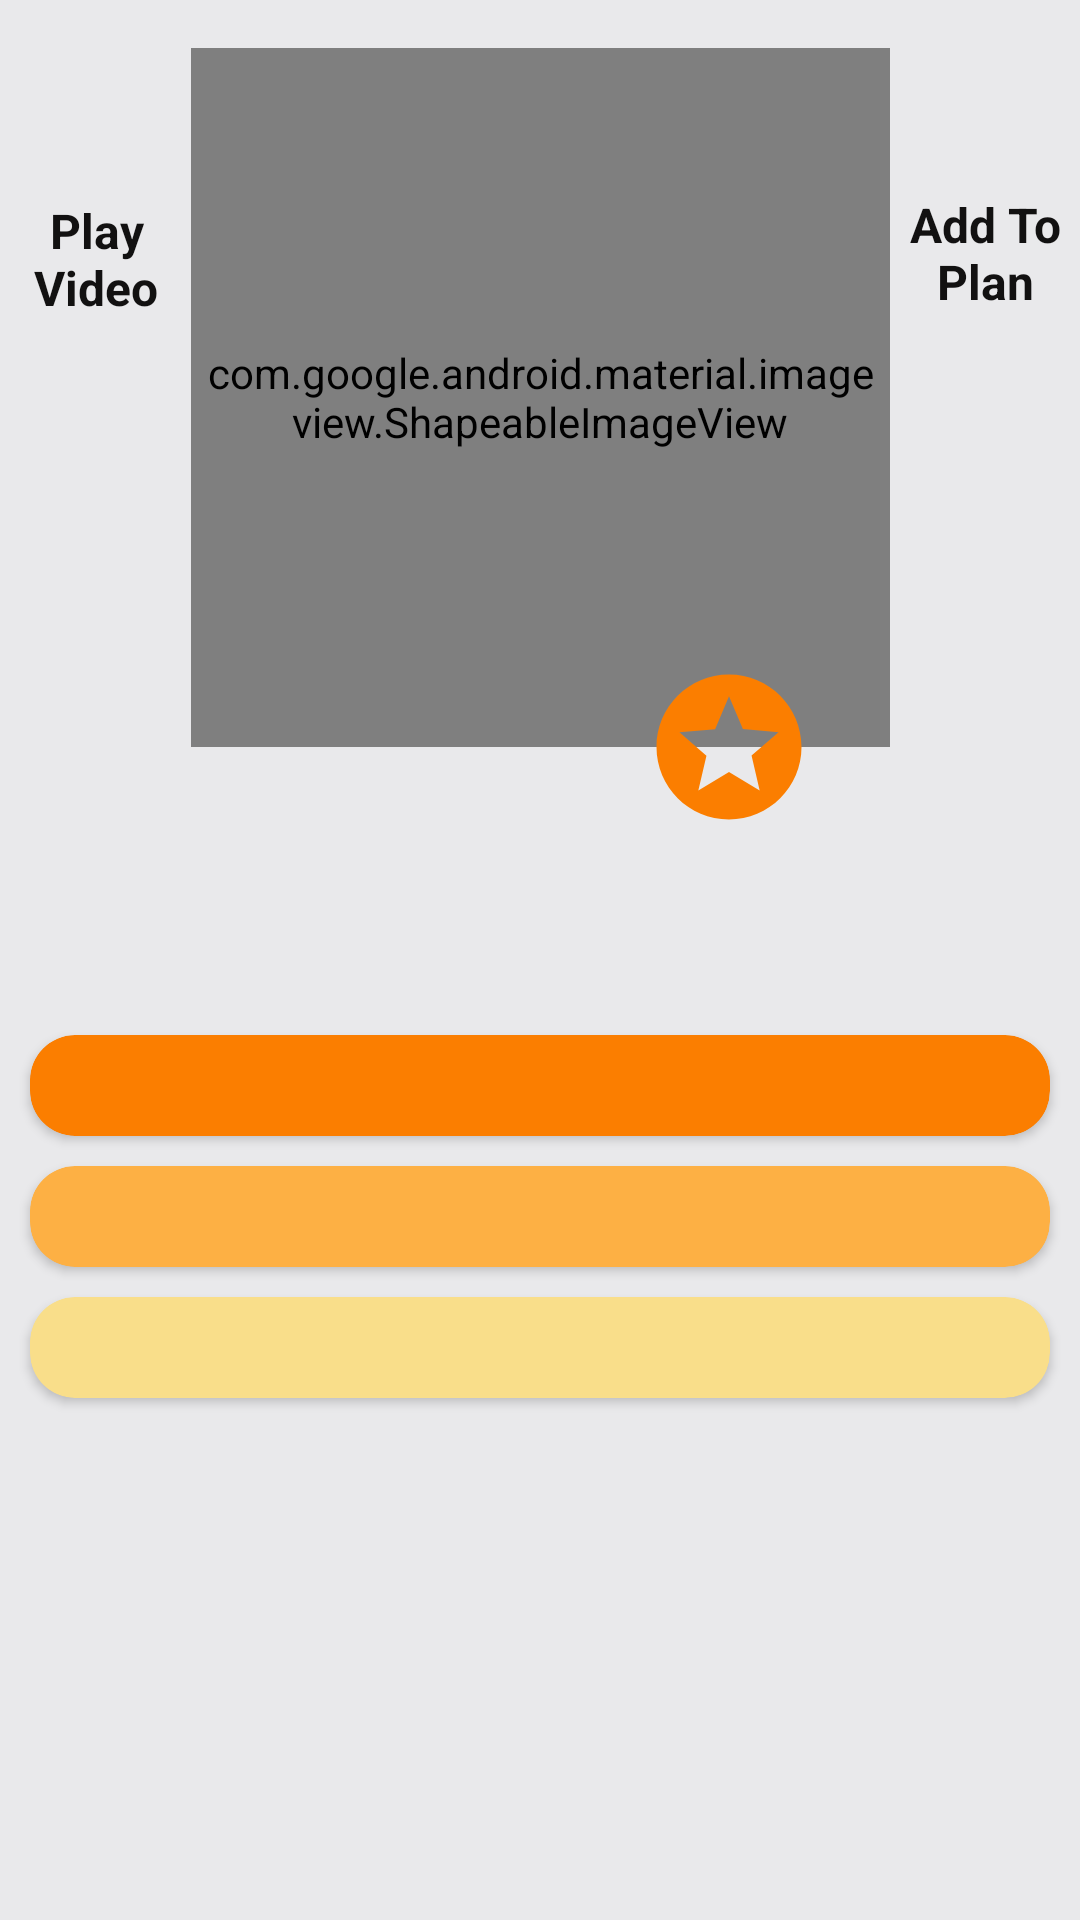

Icon click points for this 1080 × 1920 phone screenshot, format (x=x, y=y):
startofavicon: (x=729, y=747)
